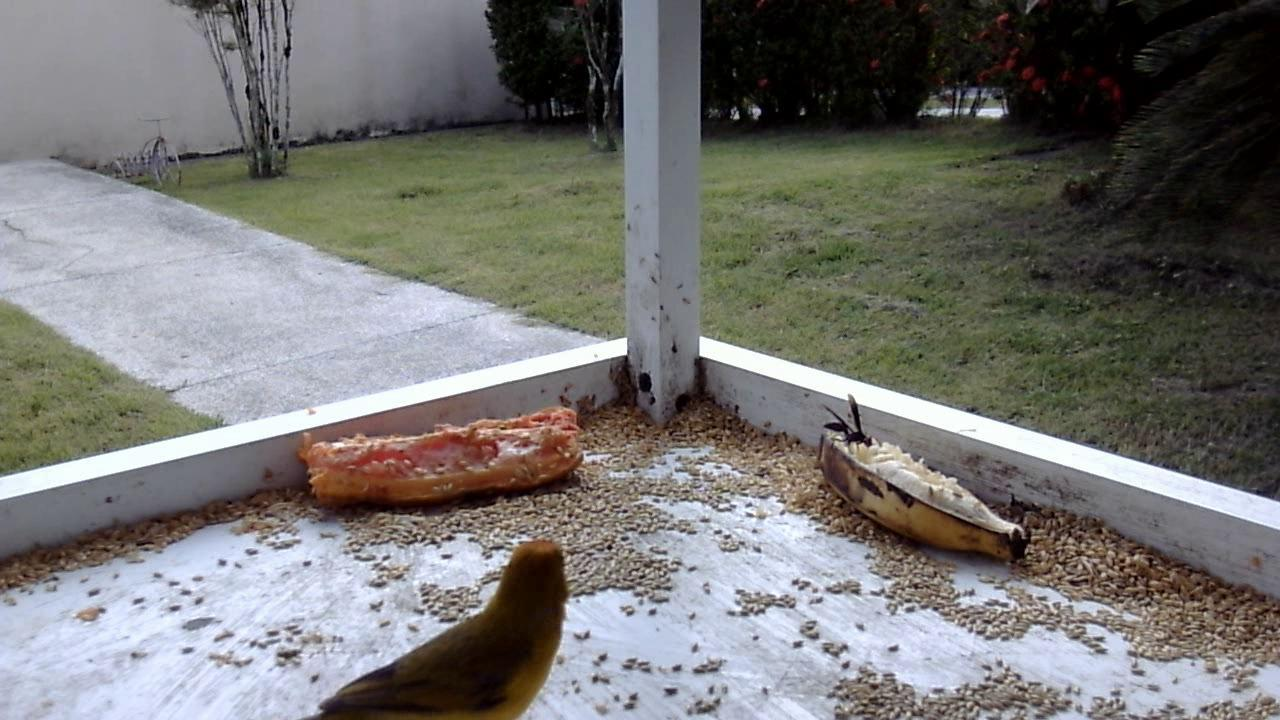canario_do_amazonas: (297, 530, 576, 718)
